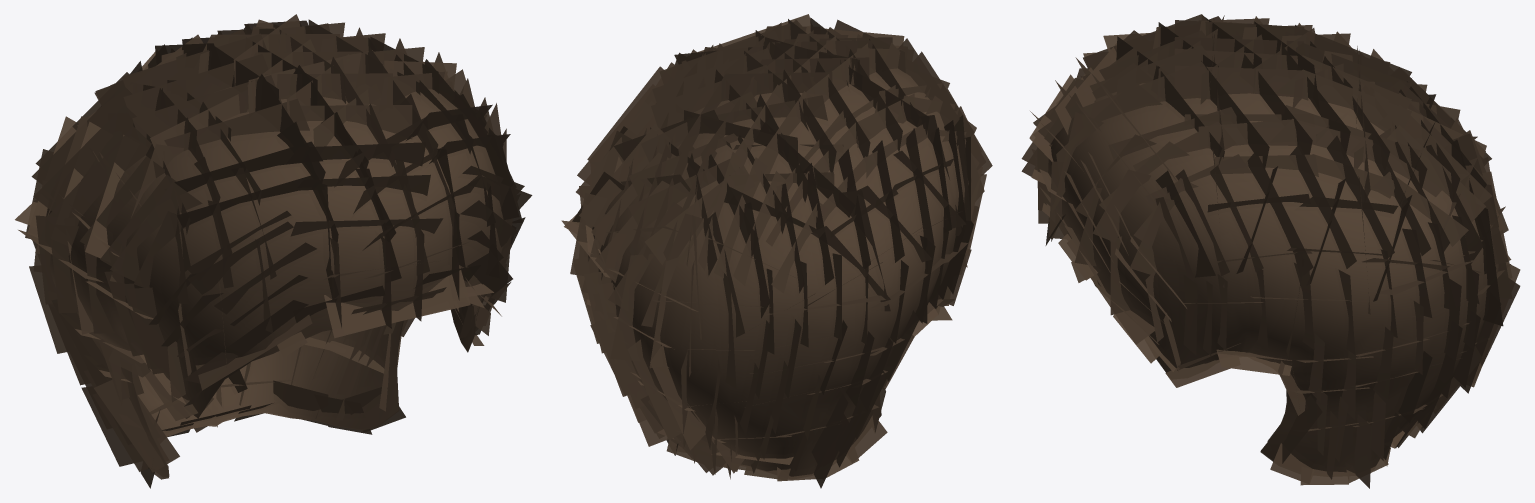
Rendered from afro01.glb.
The picture shows the model from 3 angles, left to right: view 1: azimuth 30°, elevation 25°; view 2: azimuth 150°, elevation 25°; view 3: azimuth 270°, elevation 25°; orthographic projection. The views are drawn at different scales.
Visible parts, largest first — view 1: afro01; view 2: afro01; view 3: afro01.
Part boxes in pixels (bbox=[...]): afro01: bbox=[15, 14, 532, 488]; afro01: bbox=[561, 14, 992, 488]; afro01: bbox=[1021, 14, 1520, 488].
Bounding box in the file's own units: 0.2074 × 0.2136 × 0.2381.
